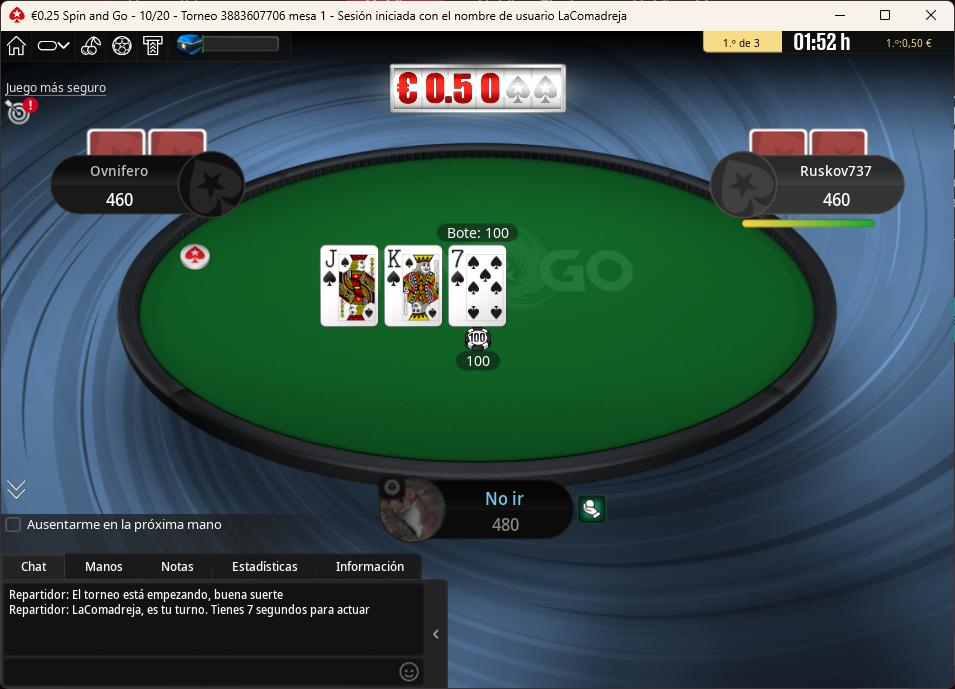Dealer: (182, 244, 215, 273)
HiddenCards: (86, 130, 213, 159), (747, 130, 870, 159)
Player: (716, 152, 911, 218), (48, 151, 244, 214)
PlayerChips: (817, 187, 859, 212), (101, 191, 143, 207)
Pot: (438, 223, 522, 242)
PrincipalPlayer: (370, 472, 569, 538)
PrincipalPlayerChips: (486, 512, 530, 535)
ShowedCards: (318, 241, 510, 334)
ShowedCards1: (319, 245, 384, 331)
ShowedCards2: (384, 246, 446, 330)
ShowedCards3: (447, 244, 509, 326)
SmallBigBlind: (133, 3, 180, 30)
TablePot: (455, 326, 509, 377)
